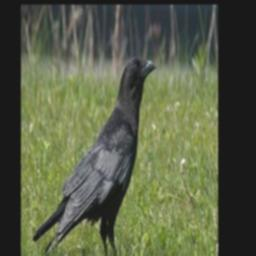Crow: (32, 56, 157, 256)
